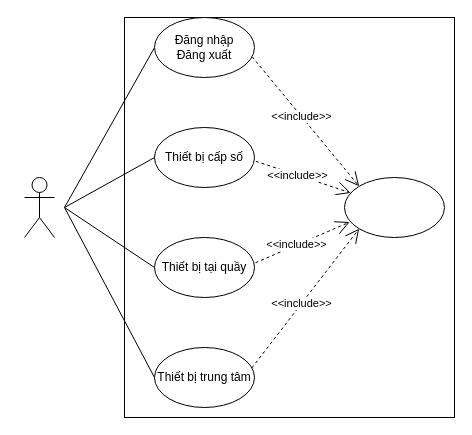
Image size: 472x435. Some labels were removed from this diagram. Each missing label, with the box of its shape:
Kỹ thuật: (24, 176, 54, 238)
Sửa, xóa: (344, 176, 444, 238)
